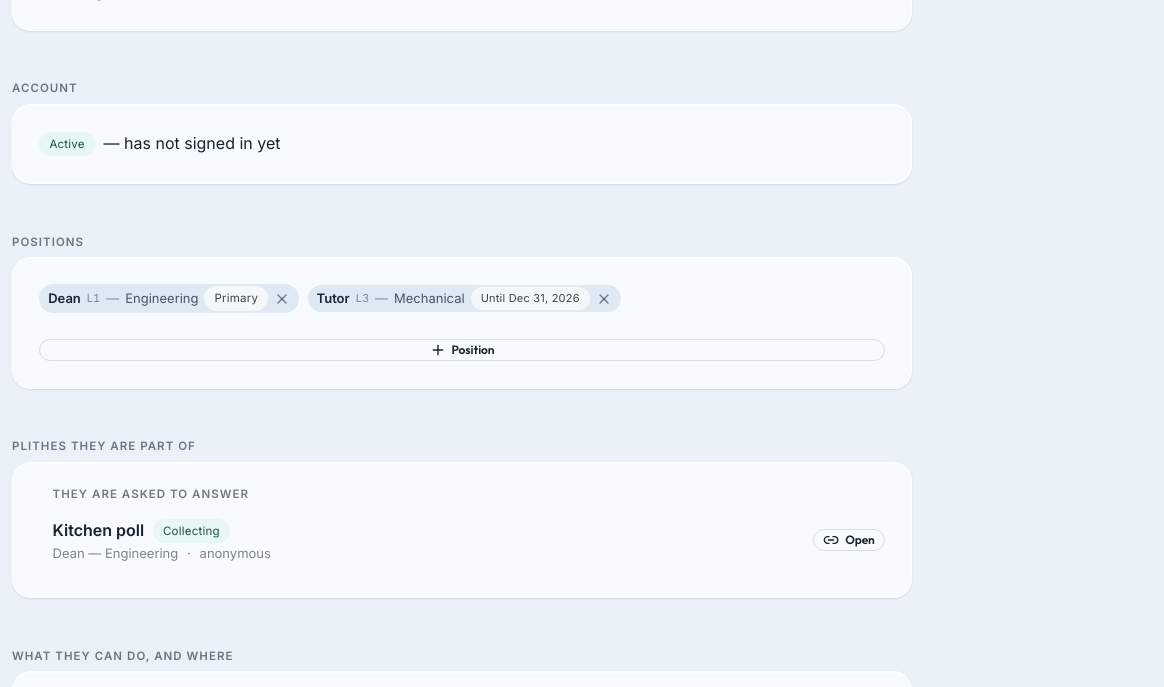
it: /app/people/:id › KEEPS INV-012’s refusal VERBATIM — the sentence names the capability
(page scrolled)
Step 1. Click the button "Position" → (462, 350), box [39,339,885,361]
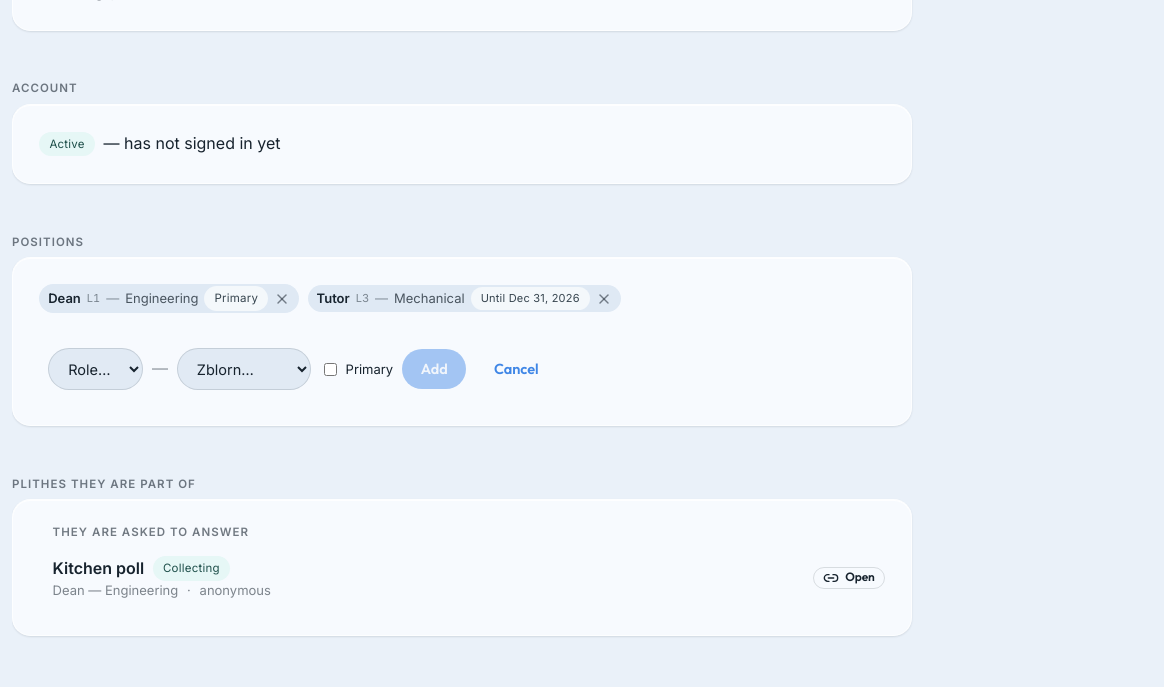
Step 2. Select "Dean" in the 1st dropdown named "Role" → (96, 369), box [48,348,143,390]
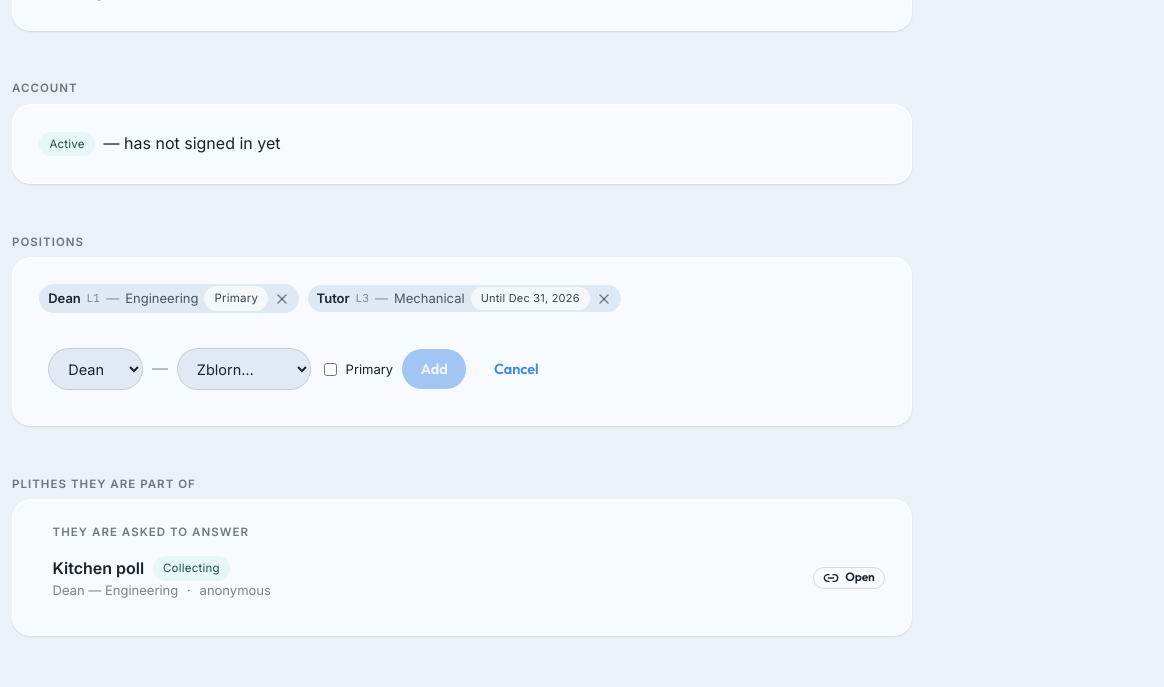
Step 3. Select "Engineering" in the 2nd dropdown named "Zblorn" → (244, 369), box [177,348,311,390]
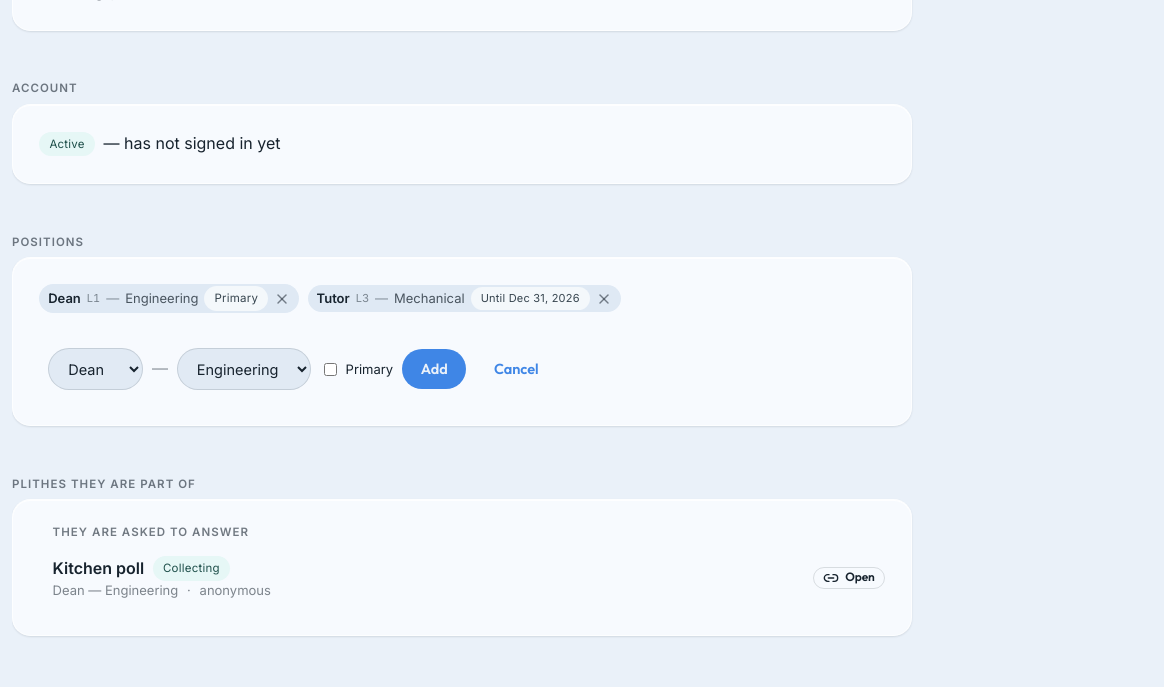
Step 4. Click the button "Add" → (434, 369), box [402,349,466,389]
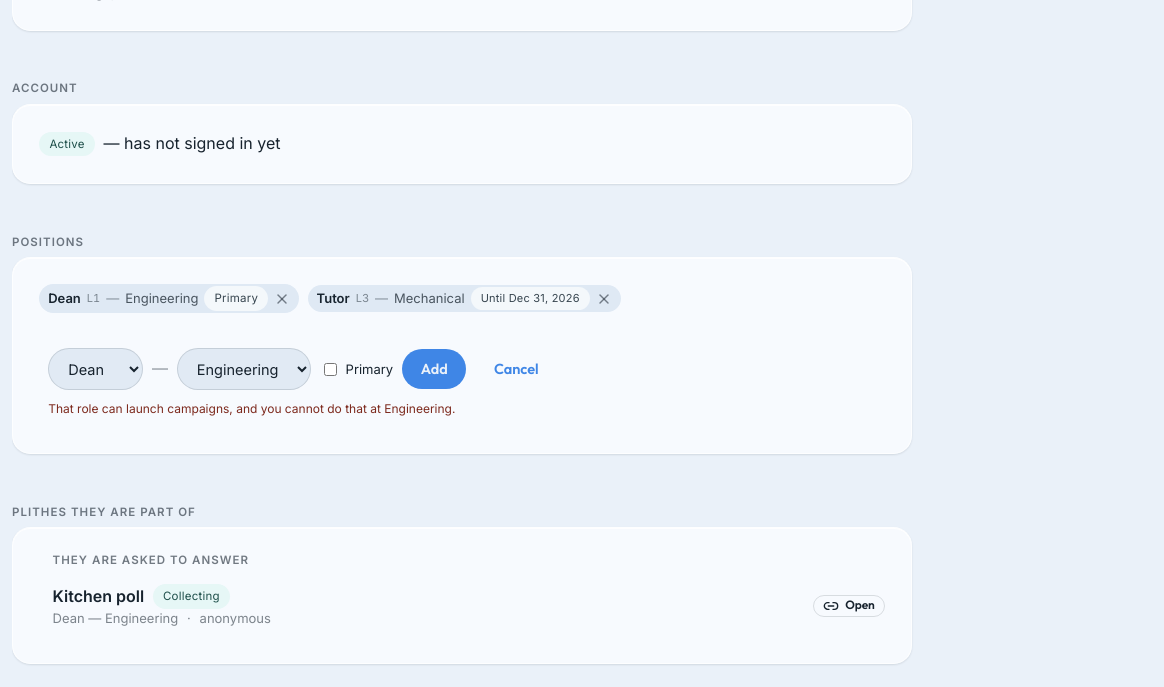
Expected: the message reads "That role can launch campaigns, and you cannot do that at Engineering.", [48,401,455,416]
